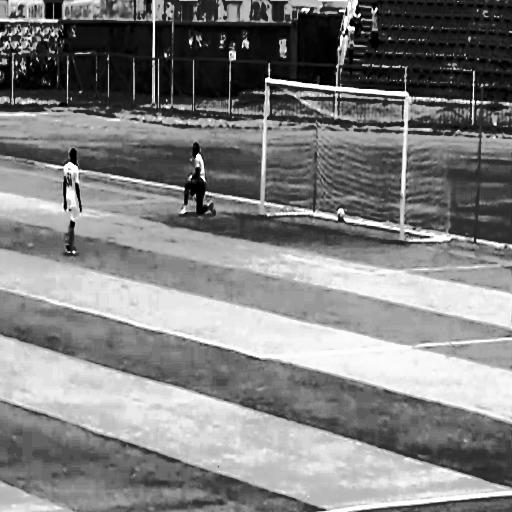ball: (336, 206, 346, 225)
keeper1: (172, 134, 225, 234)
team1: (58, 137, 83, 261)
